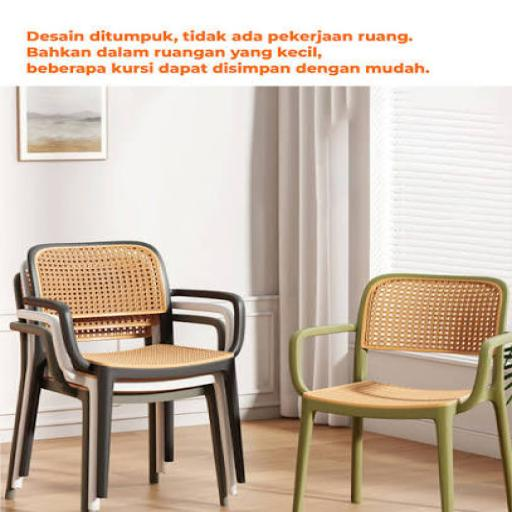kursi: (8, 244, 256, 512), (285, 270, 512, 512)
